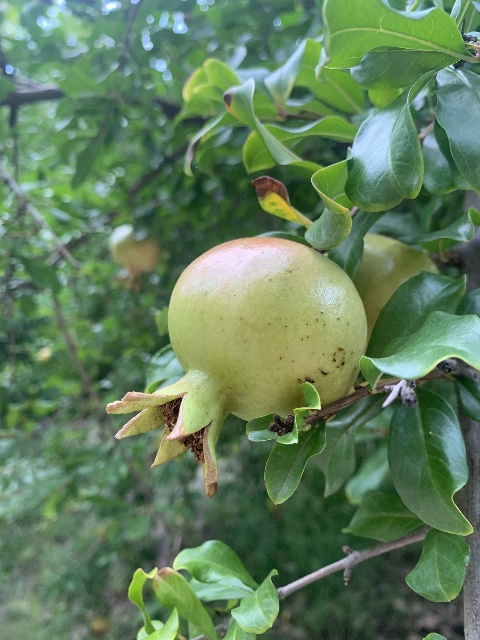mid-growth: (105, 236, 368, 503), (109, 225, 159, 290)
